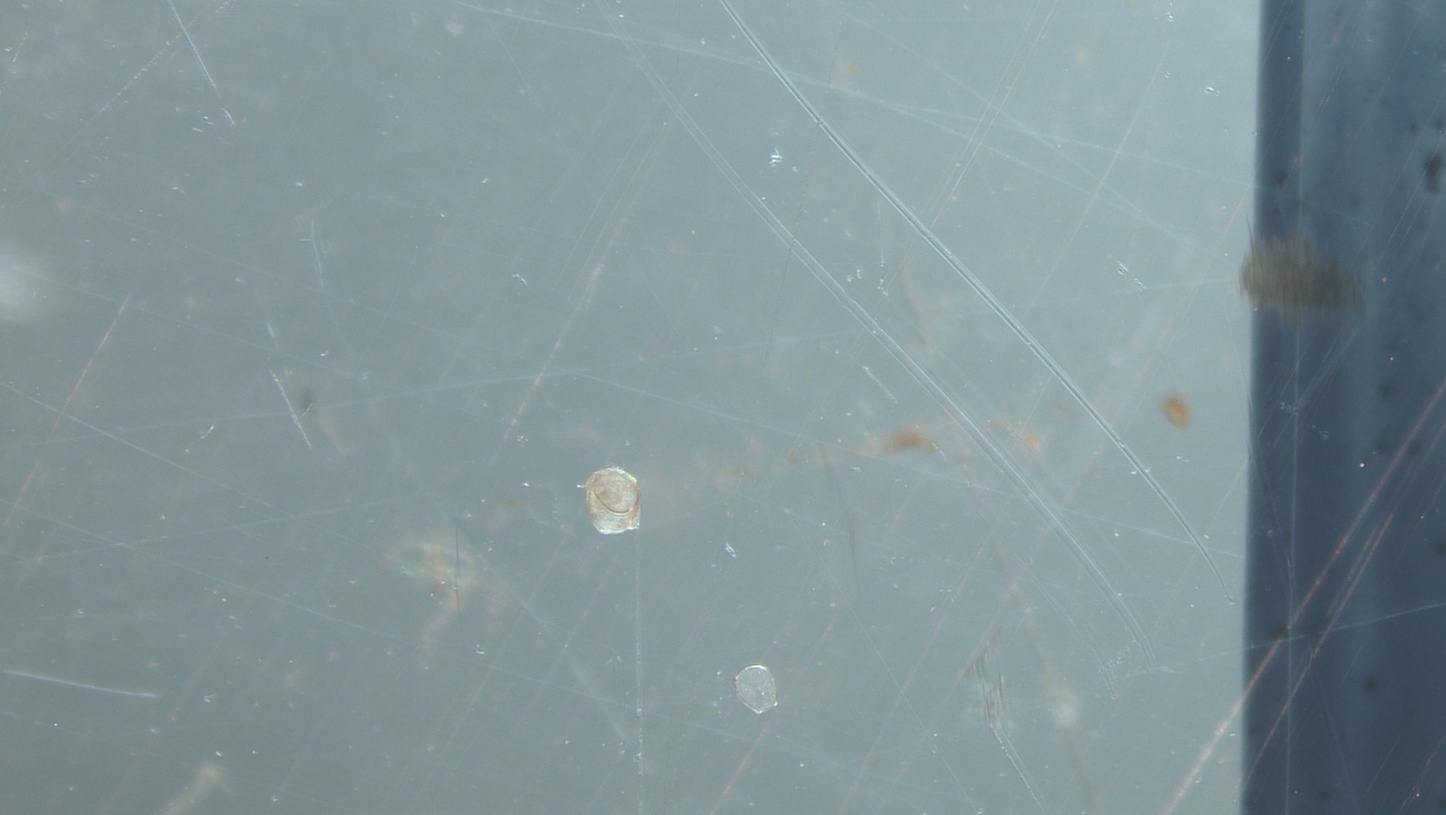dead: (581, 467, 641, 535), (733, 665, 777, 714)
